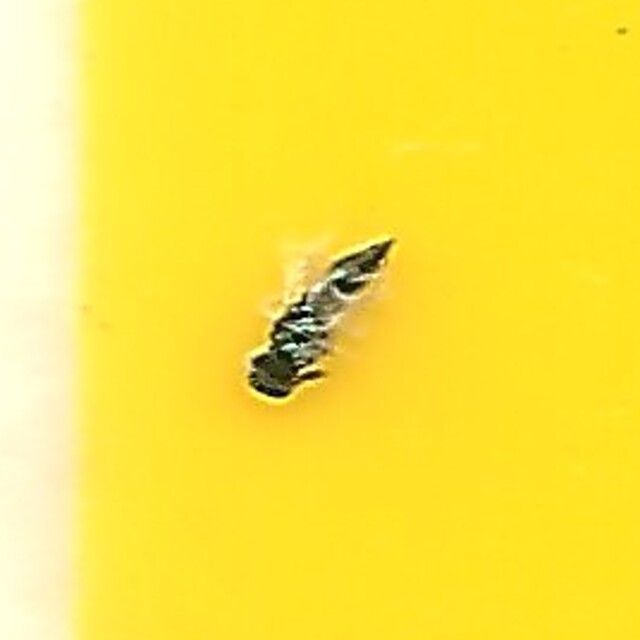Hymenoptera: (239, 232, 401, 408)
